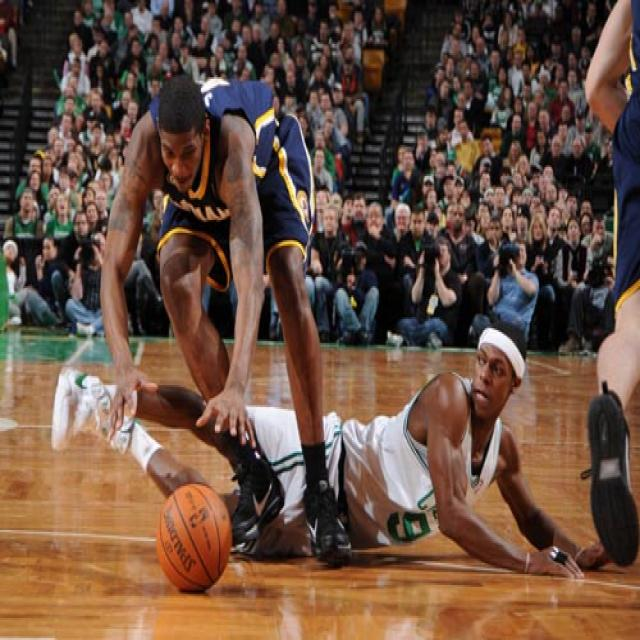10-: (0, 2, 630, 579)
down: (54, 336, 598, 578)
